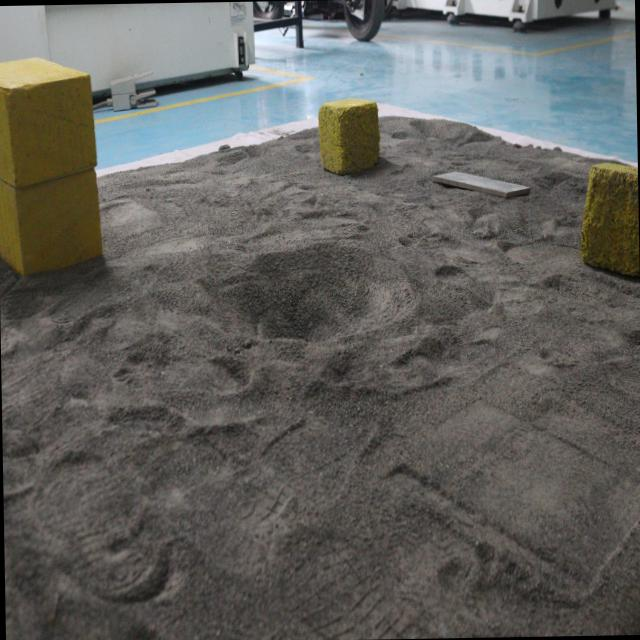box: (0, 52, 107, 275), (576, 154, 640, 294), (314, 99, 386, 178)
crater: (184, 228, 420, 358)
